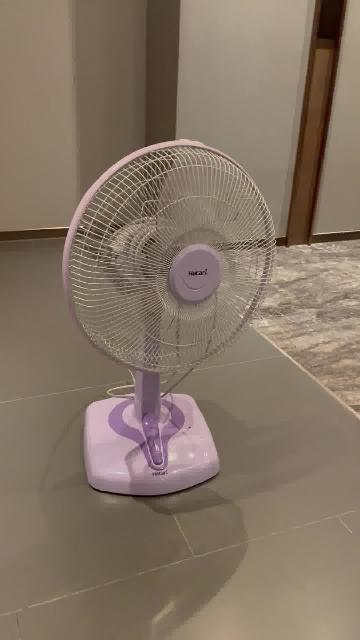Fan: (62, 139, 275, 499)
